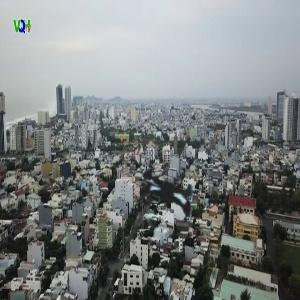drone: (75, 102, 257, 284)
